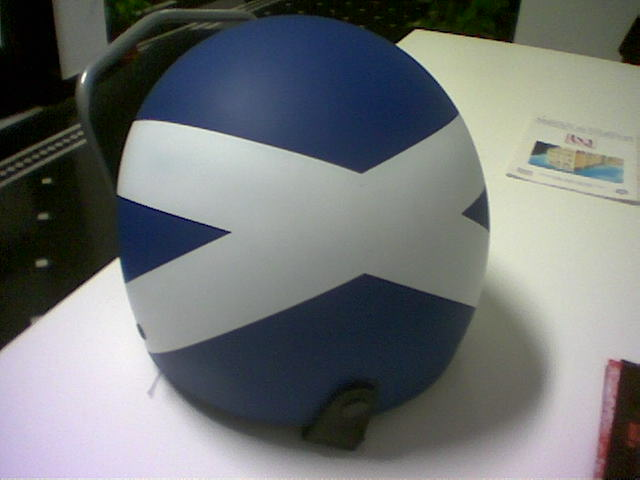helmet: (121, 36, 493, 398)
